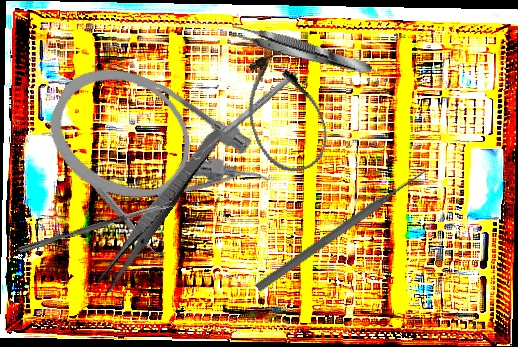Cannula: (32, 48, 286, 252), (231, 44, 337, 182)
Dressing Forceps: (89, 123, 226, 300)
Pusher: (253, 165, 431, 294)
Spatula Surgical: (40, 122, 168, 265)
Surgical Spoon: (191, 69, 299, 162), (17, 200, 174, 255)
Tissue Forceps: (228, 20, 374, 80)
